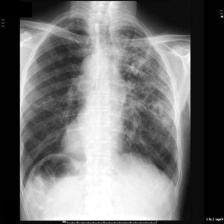tuberculosis: (23, 13, 184, 193)
